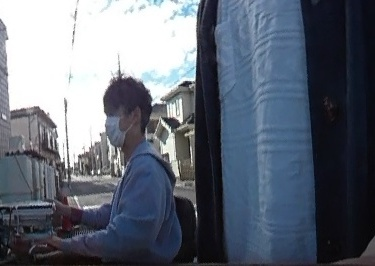person: (93, 77, 183, 266)
